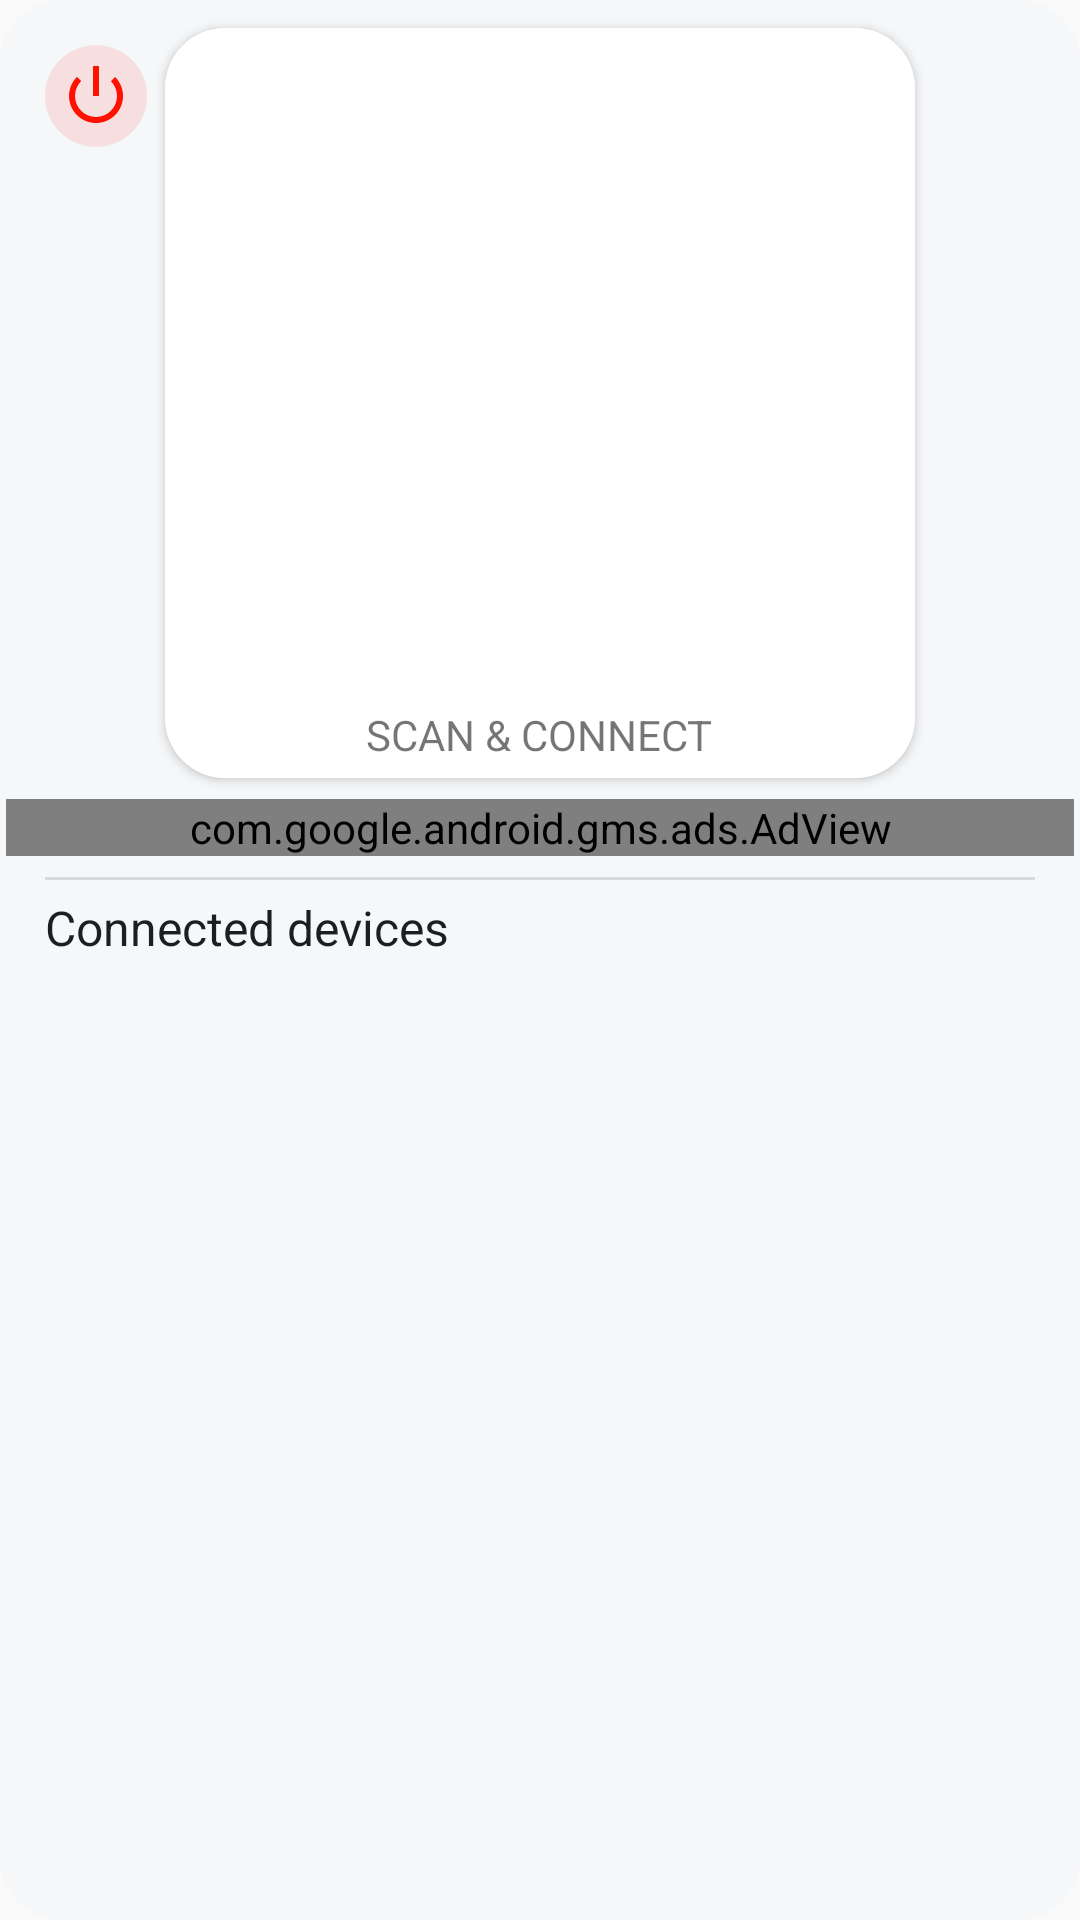

Point at icon controls on the screen. Image size 1080px x 1920px, points as (x,y).
lock power off: (96,96)
